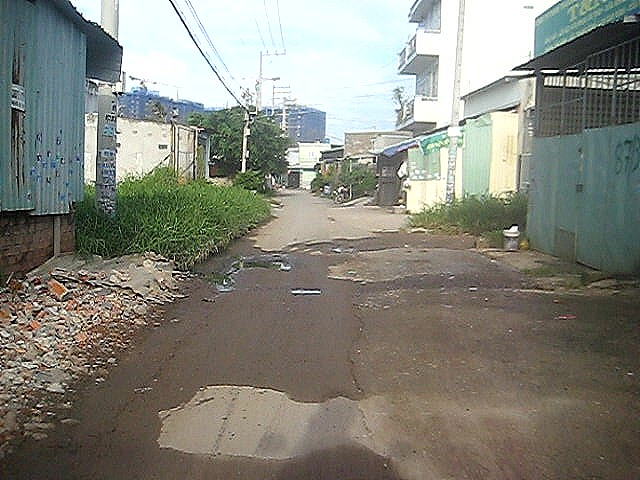hole: (285, 230, 455, 253), (209, 255, 290, 294), (288, 287, 323, 296)
